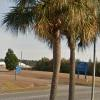Palm tree: (27, 1, 90, 90)
